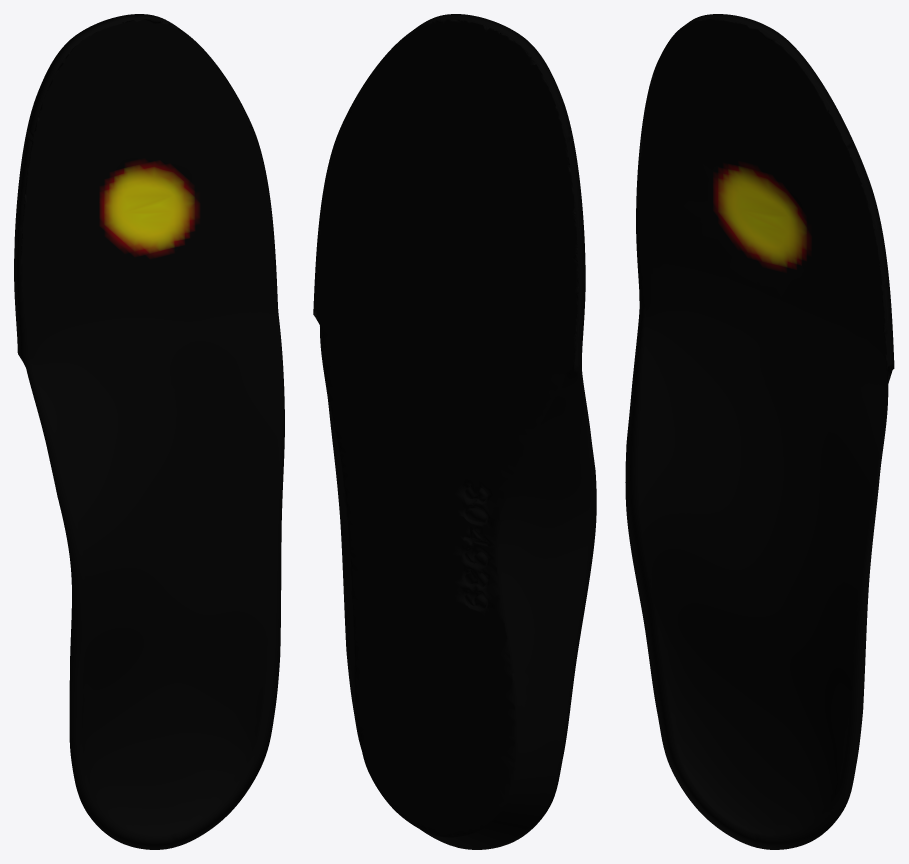
File: PAIR-OFFLOAD-2ND-3RD_RIGHT.glb
3 renders of one model, left to right at view 1: azimuth 30°, elevation 25°; view 2: azimuth 150°, elevation 25°; view 3: azimuth 330°, elevation 25°, orthographic. The views are drawn at different scales.
Visible parts, largest first — view 1: geometry_0; view 2: geometry_0; view 3: geometry_0.
Boxes of the visible parts, <box> form: geometry_0: <box>14,14,284,849</box>; geometry_0: <box>313,14,596,849</box>; geometry_0: <box>625,14,894,849</box>.
Size of the model in its own units: 104 by 317 by 25.42.
